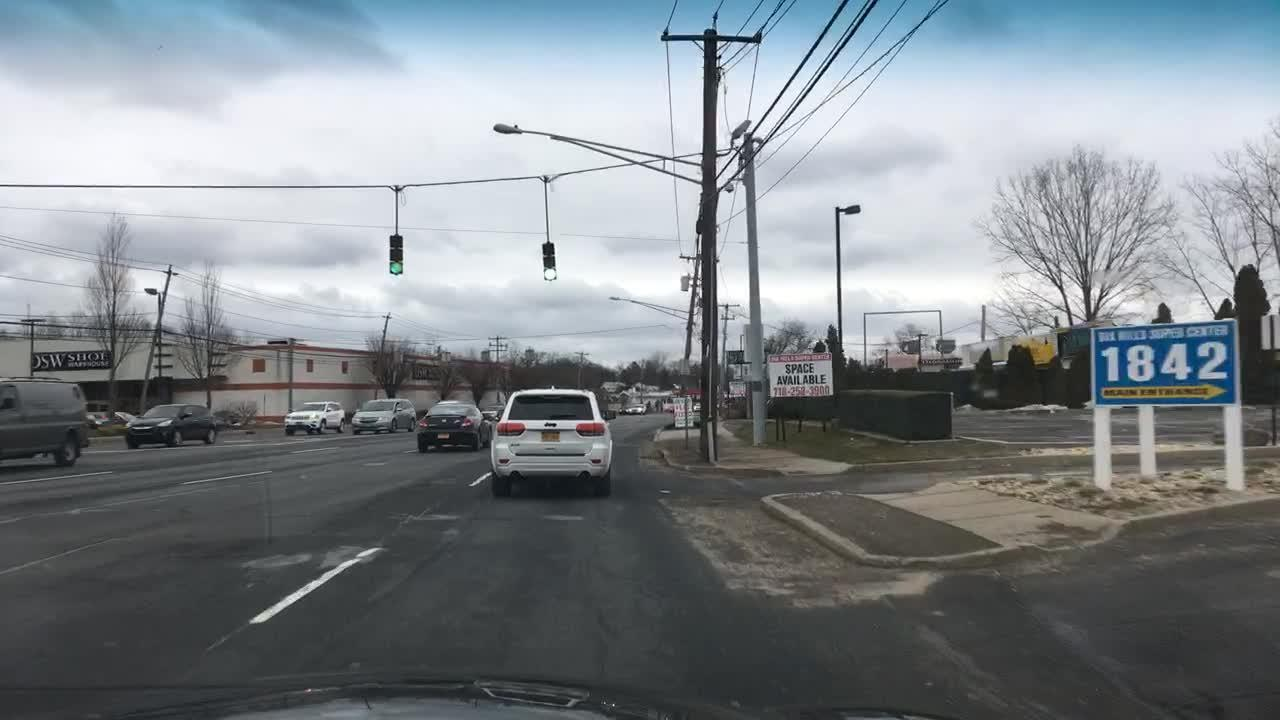jeep: (541, 422, 561, 429)
